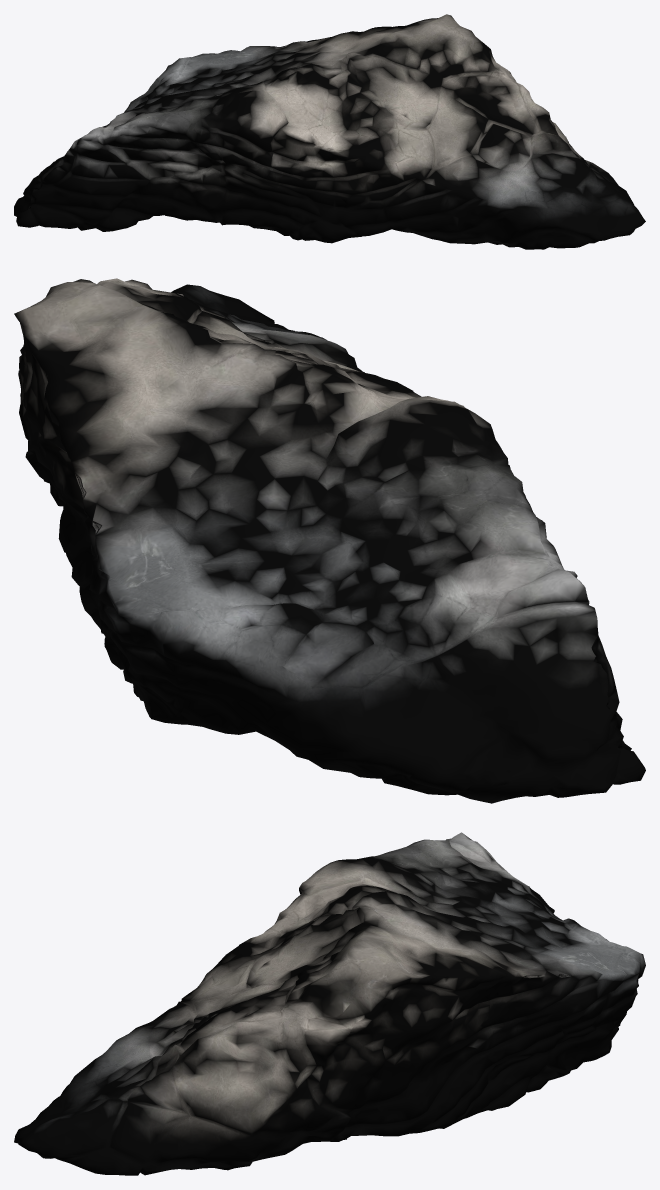
Rendered from headland_b.opt.glb.
3 renders of one model, top to bottom at view 1: azimuth 30°, elevation 25°; view 2: azimuth 150°, elevation 25°; view 3: azimuth 270°, elevation 25°, orthographic. The views are drawn at different scales.
Visible parts, largest first — view 1: headland_b; view 2: headland_b; view 3: headland_b.
Boxes of the visible parts, bbox=[...] form: headland_b: bbox=[14, 14, 645, 249]; headland_b: bbox=[14, 278, 645, 803]; headland_b: bbox=[14, 832, 645, 1175].
Size of the model in its own units: 4.04 by 1.33 by 3.74.
1 material, 1 textured.
